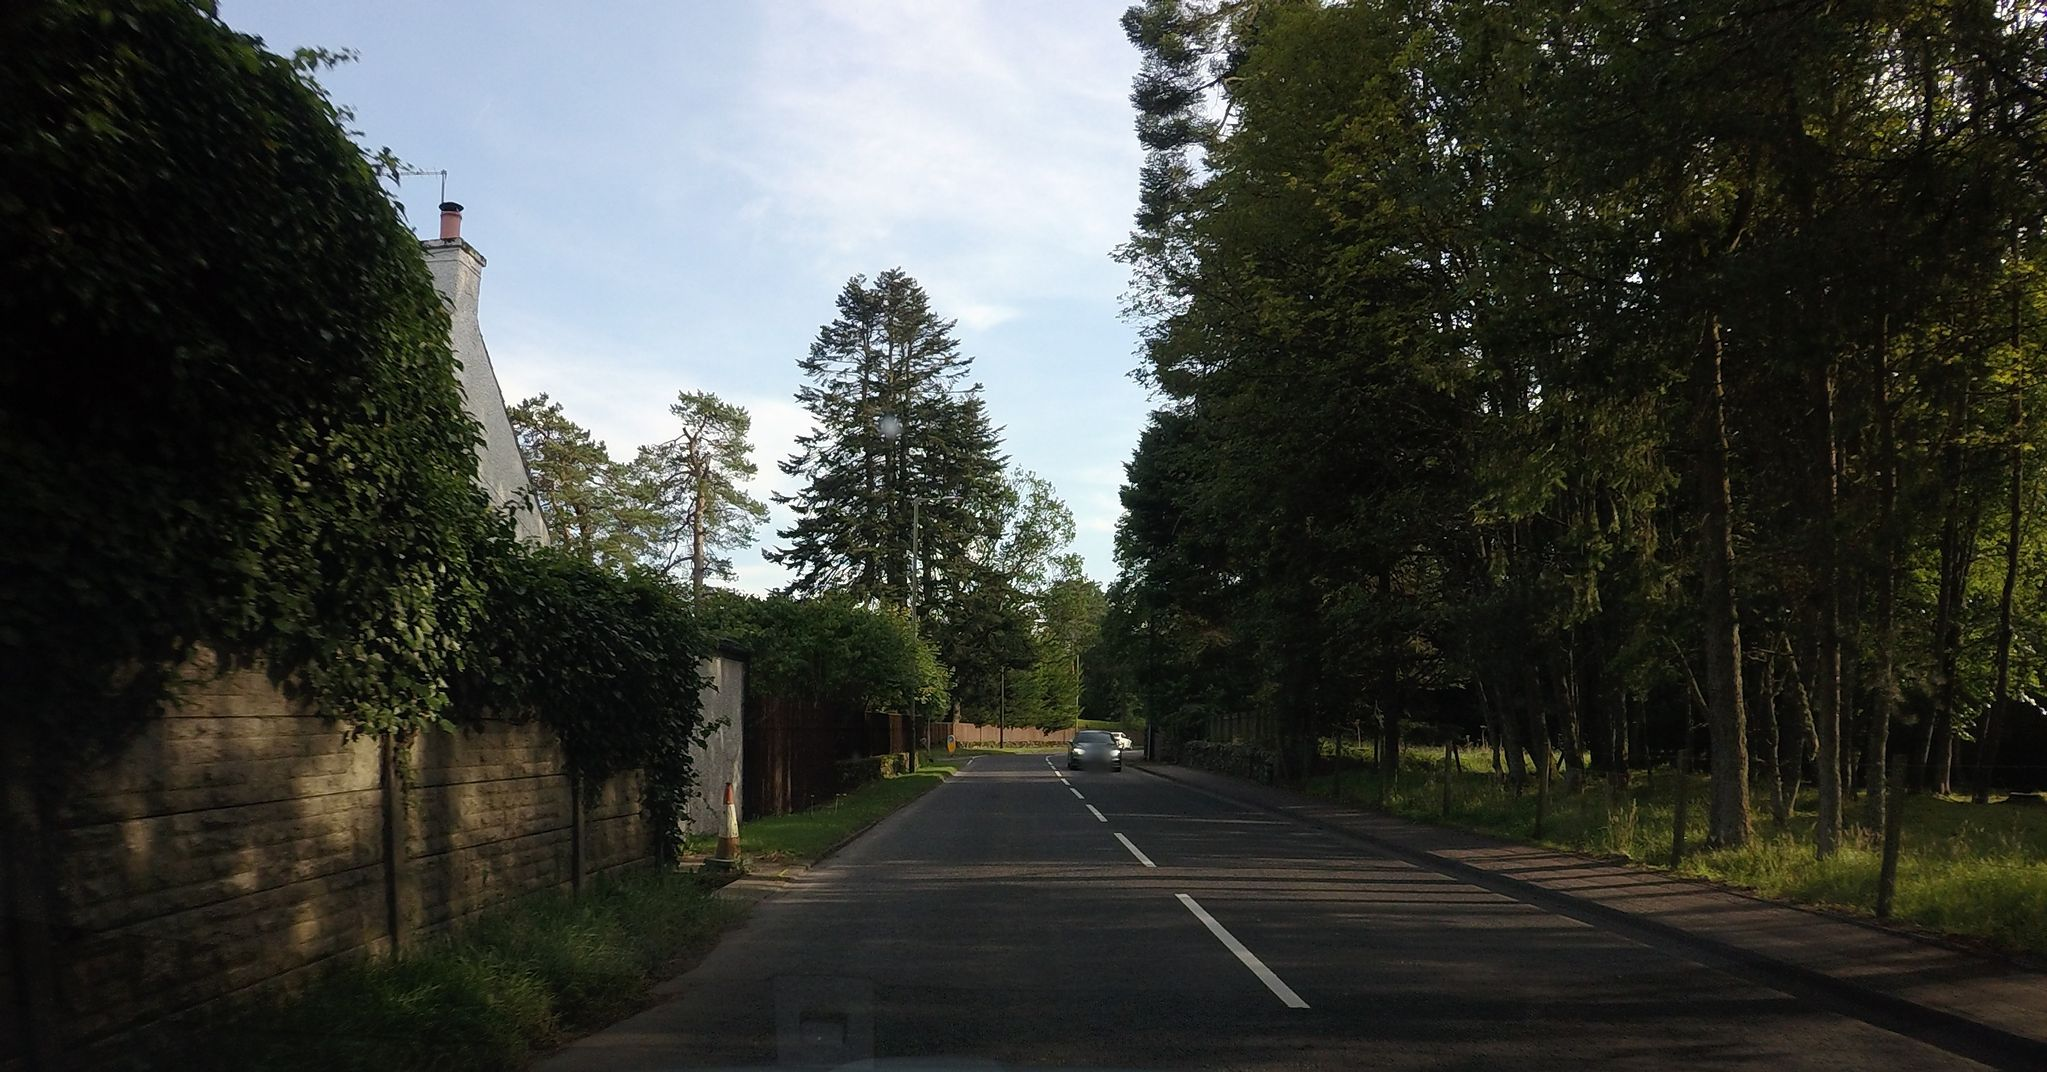car: (1067, 730, 1122, 772), (1109, 731, 1132, 750)
